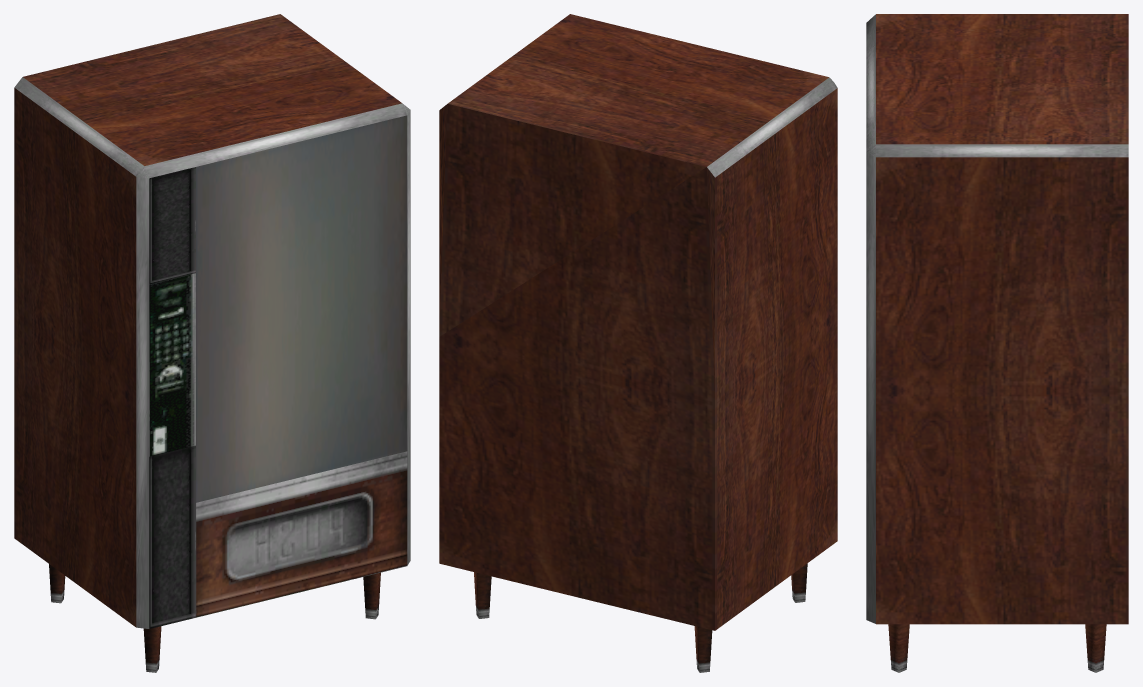
Rendered from candymachine.fbx.
3 renders of one model, left to right at view 1: azimuth 30°, elevation 25°; view 2: azimuth 150°, elevation 25°; view 3: azimuth 270°, elevation 25°, orthographic. The views are drawn at different scales.
Visible parts, largest first — view 1: mesh_0, mesh_5, mesh_4, mesh_2; view 2: mesh_0, mesh_1, mesh_3; view 3: mesh_0, mesh_1, mesh_2.
Boxes of the visible parts, x1,y1,x2,y2 form: mesh_0: (14, 14, 410, 628); mesh_5: (196, 115, 407, 502); mesh_4: (143, 626, 161, 672); mesh_2: (363, 572, 380, 619); mesh_0: (439, 14, 837, 630); mesh_1: (474, 572, 491, 618); mesh_3: (694, 626, 712, 672); mesh_0: (866, 14, 1128, 624); mesh_1: (1085, 624, 1106, 672); mesh_2: (888, 624, 909, 672).
Size of the model in its own units: 100 by 180 by 80.
2 materials, 2 textured.
